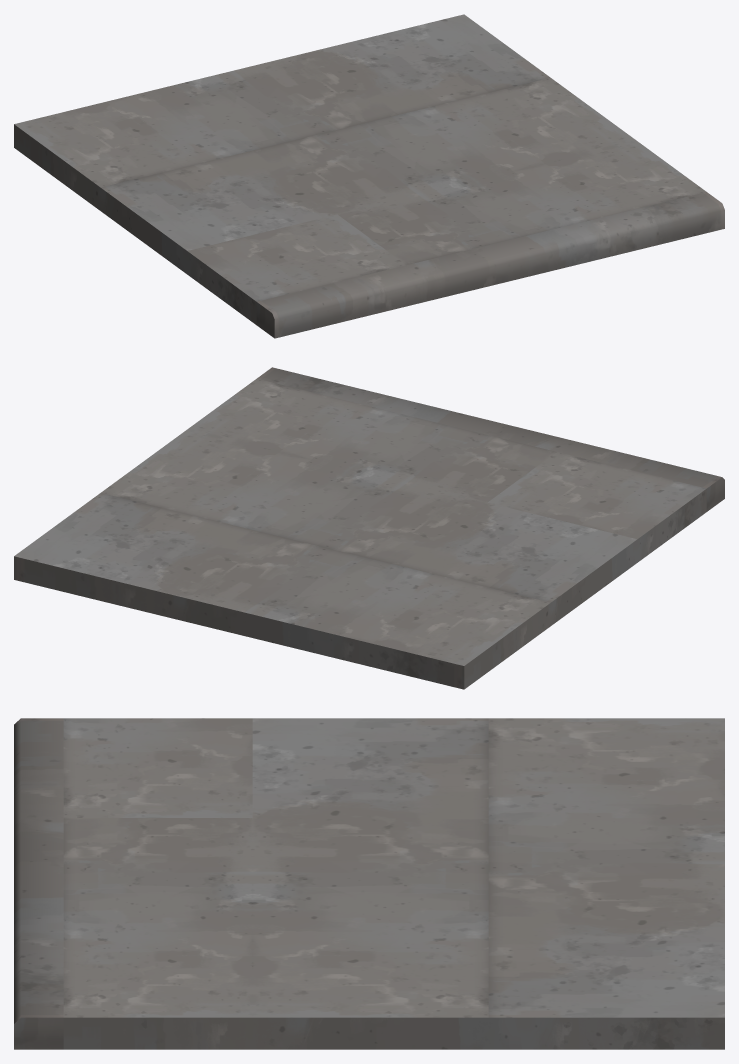
File: S_SidewalkStraight3m.gltf
The picture shows the model from 3 angles, top to bottom: view 1: azimuth 30°, elevation 25°; view 2: azimuth 150°, elevation 25°; view 3: azimuth 270°, elevation 25°; orthographic projection. The views are drawn at different scales.
Visible parts, largest first — view 1: Cube_134-col; view 2: Cube_134-col; view 3: Cube_134-col.
Boxes of the visible parts, x1,y1,x2,y2 form: Cube_134-col: (14,14,724,338); Cube_134-col: (14,367,724,689); Cube_134-col: (14,718,724,1049).
Size of the model in its own units: 3 by 0.15 by 3.01.
1 material, 1 textured.
